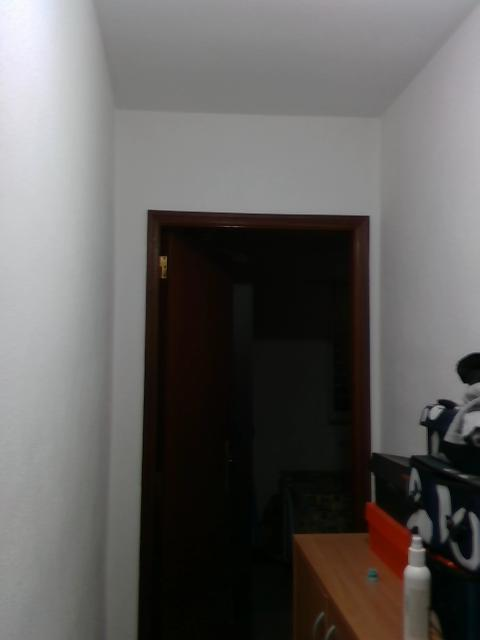open_door: (138, 207, 374, 638)
